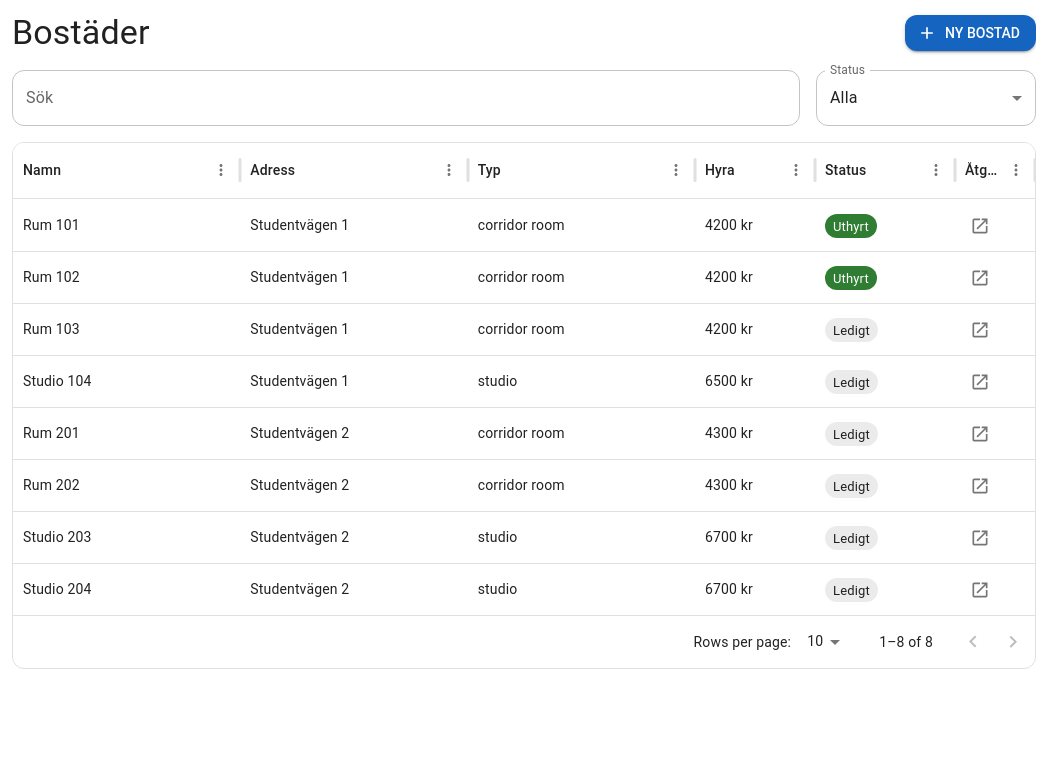
Test: PropertiesPage › filters by search term
The image size is (1048, 780).
Expected: the text "Rum 101" is shown, [23,217,80,233]
Step 1. Type "Studio" into the field labelled "Sök" → (406, 98), box [12,70,800,126]
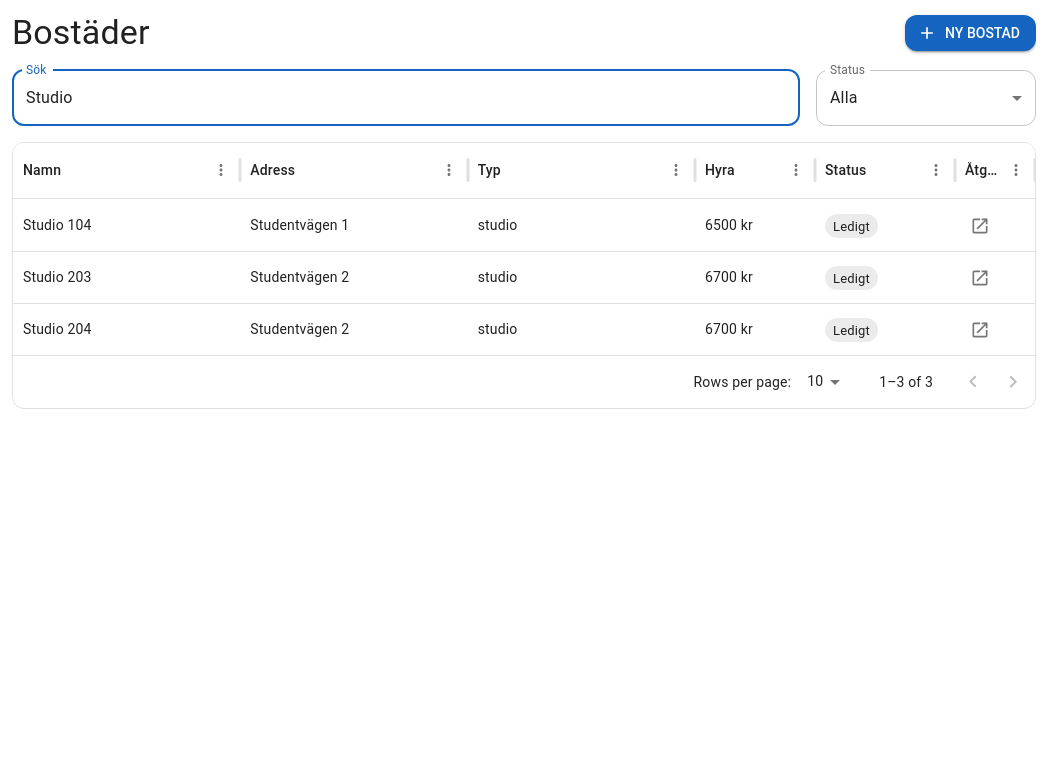
Expected: the text "Studio 104" is shown, [23,217,92,233]
Result: the text "Rum 101" is gone
